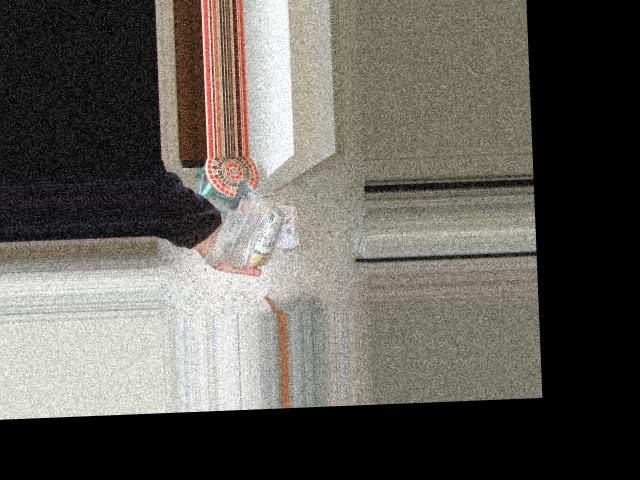cheese: (216, 208, 308, 251)
